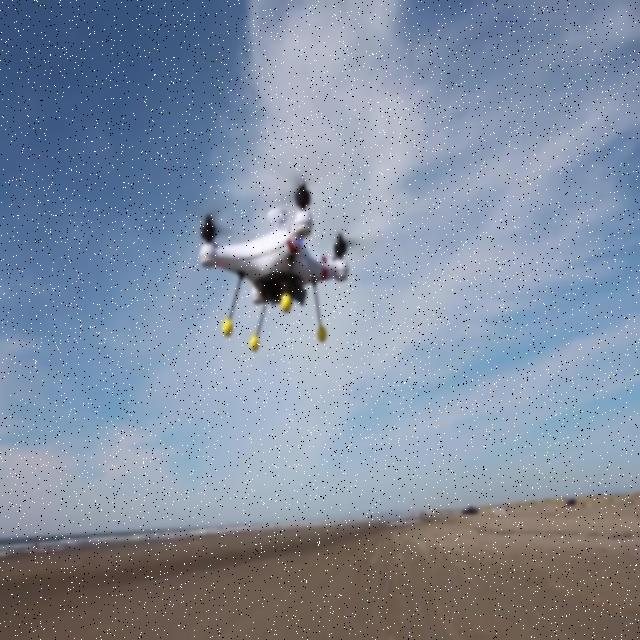UAV: (199, 179, 359, 353)
